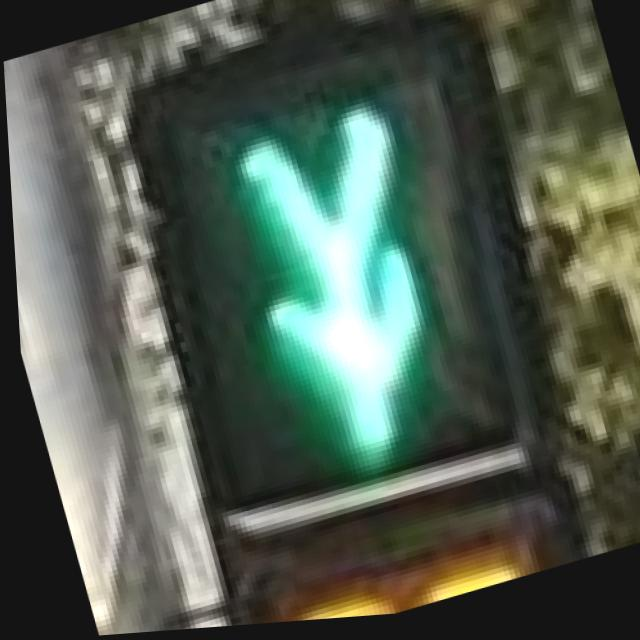green_light: (105, 36, 546, 556)
